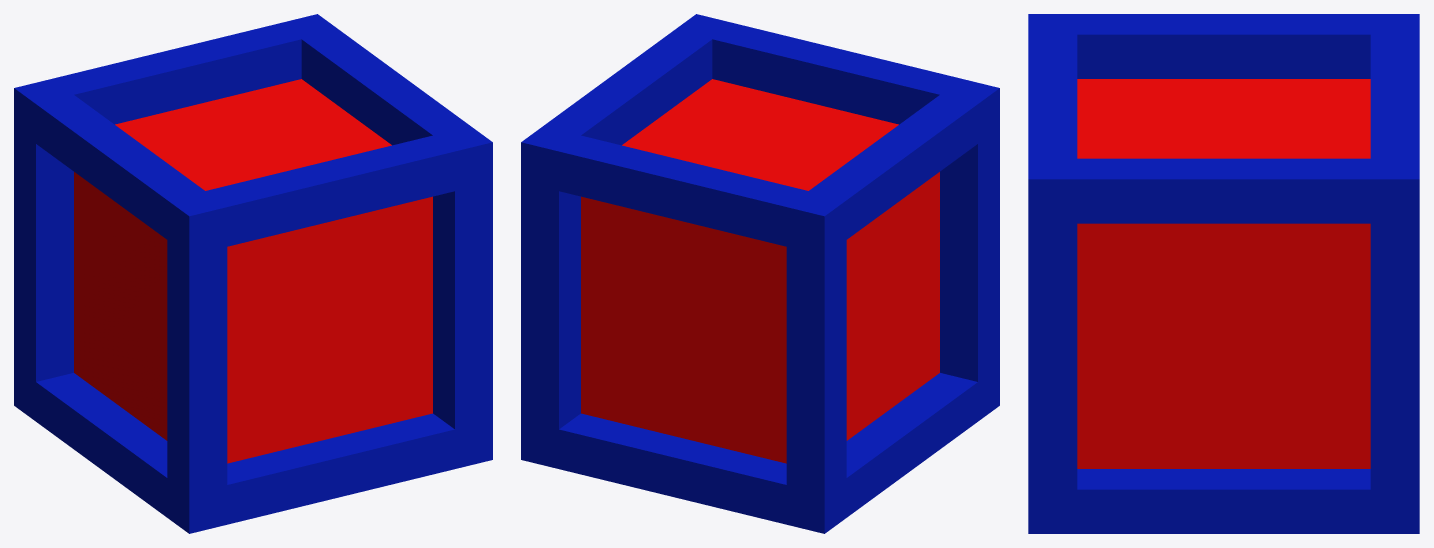
File: boite1.FBX
The picture shows the model from 3 angles, left to right: view 1: azimuth 30°, elevation 25°; view 2: azimuth 150°, elevation 25°; view 3: azimuth 270°, elevation 25°; orthographic projection. The views are drawn at different scales.
Visible parts, largest first — view 1: Box001; view 2: Box001; view 3: Box001.
Part boxes in pixels (box(x1,y1,x2,y2)): Box001: box(14, 14, 492, 533); Box001: box(521, 14, 999, 533); Box001: box(1028, 14, 1419, 533).
Size of the model in its own units: 40 by 40 by 40.
